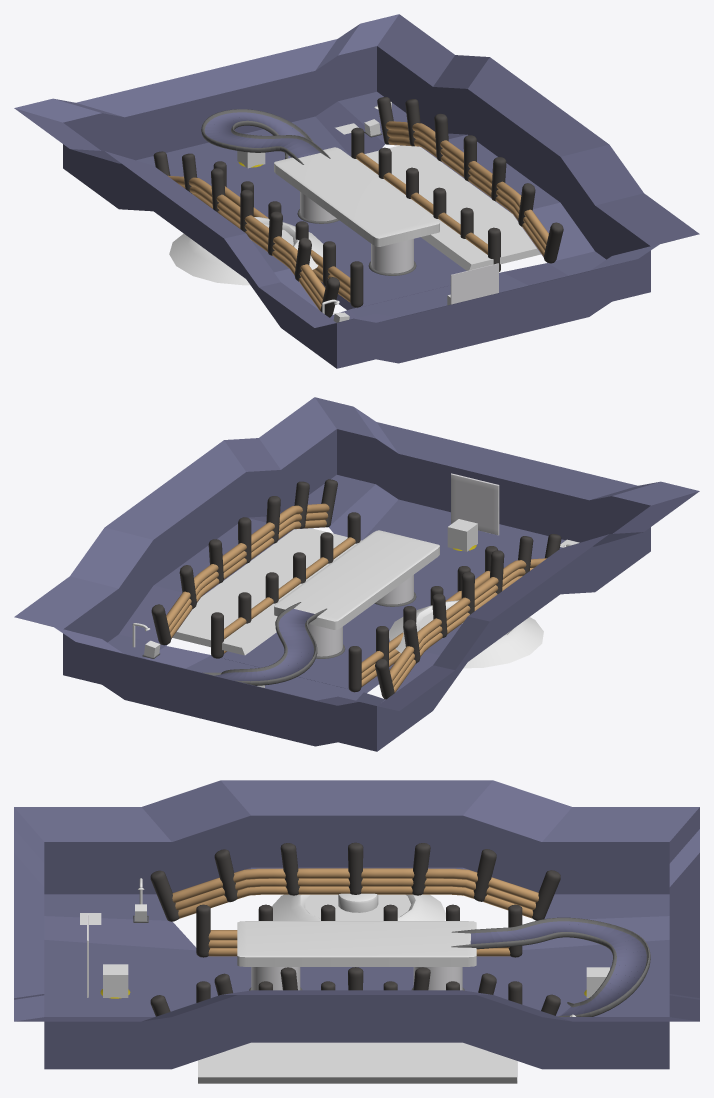
The model's file is NewMap.glb.
3 renders of one model, top to bottom at view 1: azimuth 30°, elevation 25°; view 2: azimuth 150°, elevation 25°; view 3: azimuth 270°, elevation 25°, orthographic. The views are drawn at different scales.
Visible parts, largest first — view 1: Plane.001, Cube.001, Plane.003, Plane, DummyRamp.004, LowWall.002, SO_INDICATOR_INCLUDEMESH_CYLINDER_TEAM2_.002, SO_INDICATOR_INCLUDEMESH_CYLINDER_TEAM1_.001, LowWall.001, Plane.002, SO_INDICATOR_INCLUDEMESH_CYLINDER_TEAM2_.001, SO_INDICATOR_INCLUDEMESH_CYLINDER_TEAM1_.011 (+5 smaller); view 2: Plane.001, Cube.001, Plane.003, Plane, LowWall.002, DummyRamp.004, SO_INDICATOR_INCLUDEMESH_CYLINDER_TEAM2_.002, SO_INDICATOR_INCLUDEMESH_CYLINDER_TEAM1_.001, LowWall.001, Plane.002, SO_INDICATOR_INCLUDEMESH_CYLINDER_TEAM2_.001, Cube.014 (+6 smaller); view 3: Plane.001, Plane.003, Cube.001, LowWall.001, DummyRamp.004, SO_INDICATOR_INCLUDEMESH_CYLINDER_TEAM1_.001, Plane, Plane.002, SO_INDICATOR_INCLUDEMESH_CYLINDER_TEAM2_.002, SO_INDICATOR_INCLUDEMESH_CYLINDER_TEAM1_.011, SO_INDICATOR_INCLUDEMESH_CYLINDER_TEAM2_.001, LowWall.023 (+4 smaller).
Boxes of the visible parts, x1=… form: Plane.001: x1=14, y1=14, x2=699, y2=368; Cube.001: x1=274, y1=147, x2=439, y2=246; Plane.003: x1=353, y1=145, x2=540, y2=270; Plane: x1=254, y1=187, x2=466, y2=310; DummyRamp.004: x1=201, y1=109, x2=330, y2=164; LowWall.002: x1=385, y1=121, x2=548, y2=256; SO_INDICATOR_INCLUDEMESH_CYLINDER_TEAM2_.002: x1=377, y1=97, x2=563, y2=263; SO_INDICATOR_INCLUDEMESH_CYLINDER_TEAM1_.001: x1=153, y1=151, x2=339, y2=317; LowWall.001: x1=167, y1=175, x2=325, y2=310; Plane.002: x1=169, y1=217, x2=323, y2=285; SO_INDICATOR_INCLUDEMESH_CYLINDER_TEAM2_.001: x1=351, y1=127, x2=500, y2=271; SO_INDICATOR_INCLUDEMESH_CYLINDER_TEAM1_.011: x1=213, y1=161, x2=363, y2=307; Plane.001: x1=14, y1=397, x2=699, y2=751; Cube.001: x1=274, y1=530, x2=439, y2=629; Plane.003: x1=172, y1=528, x2=361, y2=655; Plane: x1=221, y1=570, x2=457, y2=693; LowWall.002: x1=166, y1=503, x2=329, y2=638; DummyRamp.004: x1=202, y1=602, x2=326, y2=685; SO_INDICATOR_INCLUDEMESH_CYLINDER_TEAM2_.002: x1=151, y1=479, x2=337, y2=645; SO_INDICATOR_INCLUDEMESH_CYLINDER_TEAM1_.001: x1=375, y1=534, x2=561, y2=699; LowWall.001: x1=389, y1=558, x2=546, y2=692; Plane.002: x1=389, y1=600, x2=543, y2=668; SO_INDICATOR_INCLUDEMESH_CYLINDER_TEAM2_.001: x1=211, y1=512, x2=360, y2=658; Cube.014: x1=451, y1=473, x2=499, y2=535; Plane.001: x1=14, y1=780, x2=699, y2=1069; Plane.003: x1=198, y1=1042, x2=517, y2=1083; Cube.001: x1=237, y1=921, x2=476, y2=966; LowWall.001: x1=172, y1=868, x2=538, y2=918; DummyRamp.004: x1=451, y1=917, x2=650, y2=1016; SO_INDICATOR_INCLUDEMESH_CYLINDER_TEAM1_.001: x1=150, y1=842, x2=560, y2=921; Plane: x1=197, y1=955, x2=516, y2=999; Plane.002: x1=272, y1=893, x2=445, y2=920; SO_INDICATOR_INCLUDEMESH_CYLINDER_TEAM2_.002: x1=150, y1=967, x2=560, y2=1016; SO_INDICATOR_INCLUDEMESH_CYLINDER_TEAM1_.011: x1=196, y1=904, x2=522, y2=957; SO_INDICATOR_INCLUDEMESH_CYLINDER_TEAM2_.001: x1=196, y1=981, x2=522, y2=1004; LowWall.023: x1=208, y1=930, x2=510, y2=956.
Size of the model in its own units: 73.18 by 17.97 by 98.86.
